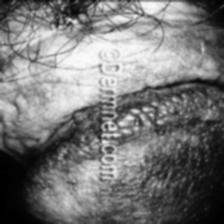Toxin: (122, 82, 224, 136)
